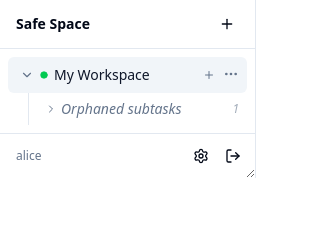
Test: Sidebar — session hierarchy › expanding the orphans group reveals orphaned sessions
Expected: the text "Orphaned subtasks" is shown, [61, 99, 182, 118]
Click the button with aria-label "Expand orphaned subtasks": (142, 109) [37, 93, 247, 125]
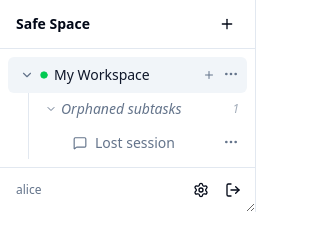
Expected: the text "Lost session" is shown, [95, 133, 175, 152]
